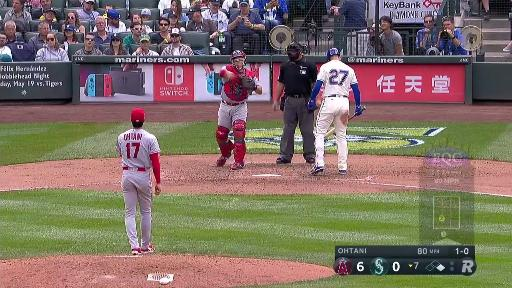pitcher: (115, 107, 162, 255)
